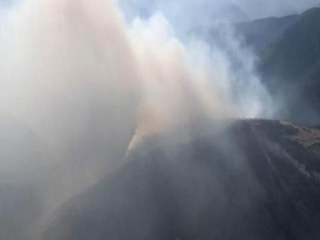smoke: (6, 9, 155, 222), (108, 16, 279, 154)
